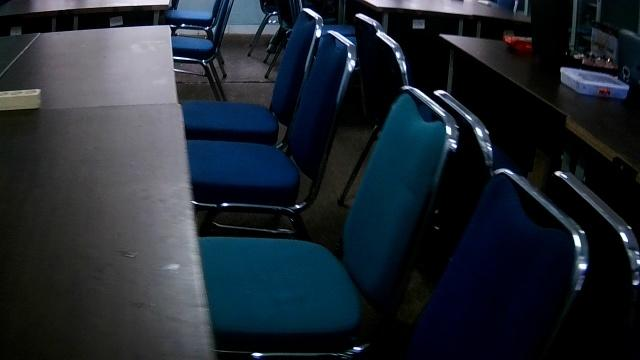Kursi: (196, 83, 458, 356), (186, 28, 356, 235), (178, 6, 323, 145)
